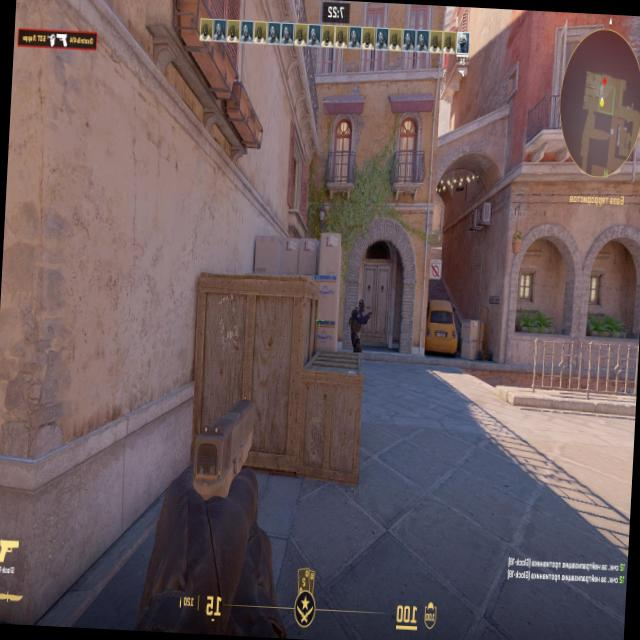CT: (349, 298, 364, 349)
CT_heat: (358, 302, 363, 317)
